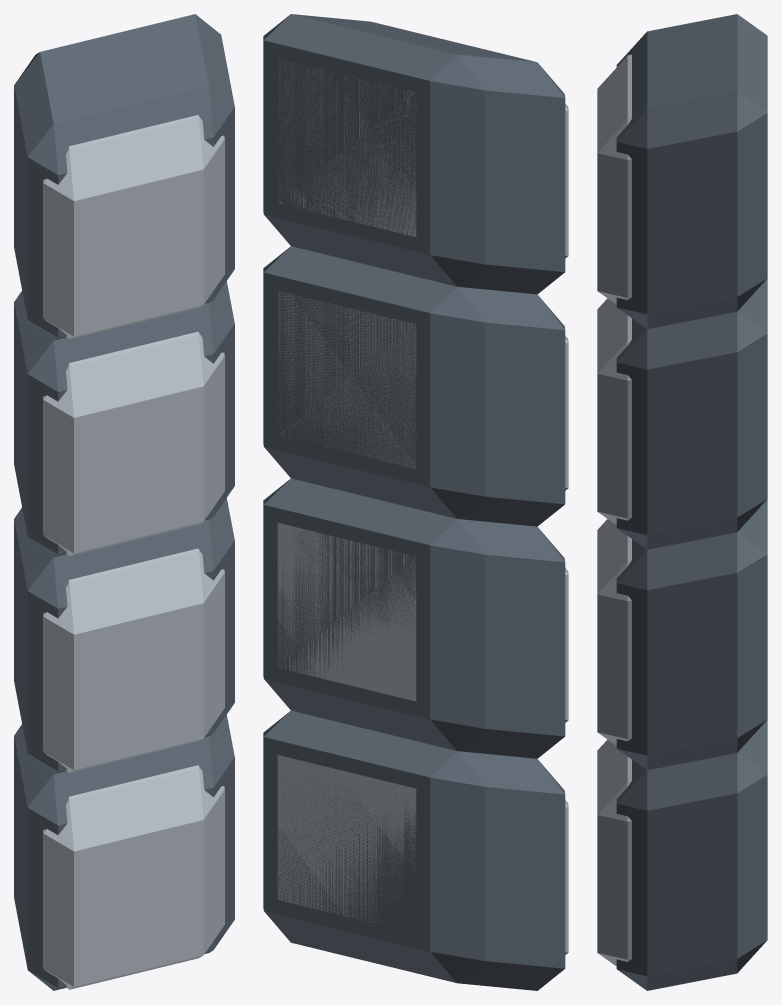
File: Terrain_Block1x4.gltf
3 renders of one model, left to right at view 1: azimuth 30°, elevation 25°; view 2: azimuth 150°, elevation 25°; view 3: azimuth 270°, elevation 25°, orthographic. The views are drawn at different scales.
Visible parts, largest first — view 1: Terrain_Block1x4_baked; view 2: Terrain_Block1x4_baked; view 3: Terrain_Block1x4_baked.
Boxes of the visible parts, <box> form: Terrain_Block1x4_baked: <box>14,14,234,990</box>; Terrain_Block1x4_baked: <box>263,14,568,990</box>; Terrain_Block1x4_baked: <box>597,14,767,990</box>.
Size of the model in its own units: 1.15 by 4.15 by 0.7.
